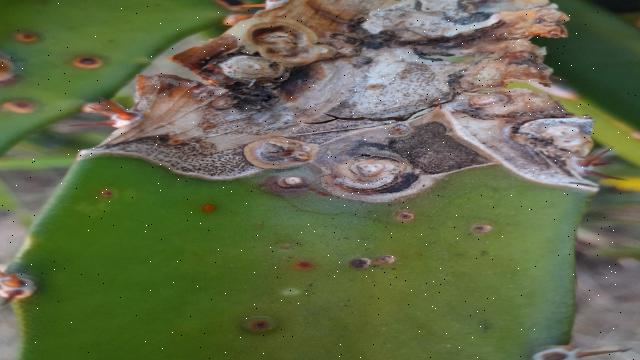stemcanker: (245, 307, 283, 336), (2, 96, 42, 115), (348, 251, 380, 274), (70, 52, 105, 71), (390, 207, 421, 228), (466, 219, 498, 239), (89, 182, 121, 201), (291, 254, 319, 275), (195, 198, 222, 219), (9, 28, 40, 45)
